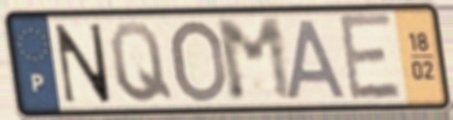A: (286, 17, 352, 102)
E: (335, 11, 405, 105)
M: (212, 15, 299, 105)
N: (52, 21, 114, 106)
O: (169, 17, 230, 106)
Q: (107, 19, 177, 106)
